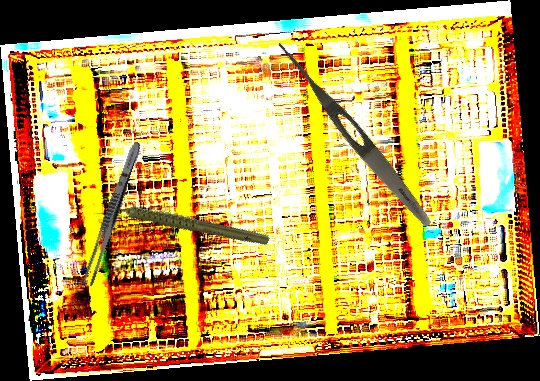Dressing Forceps: (269, 37, 438, 232), (80, 139, 145, 288)
Handpiece: (102, 163, 271, 278)
